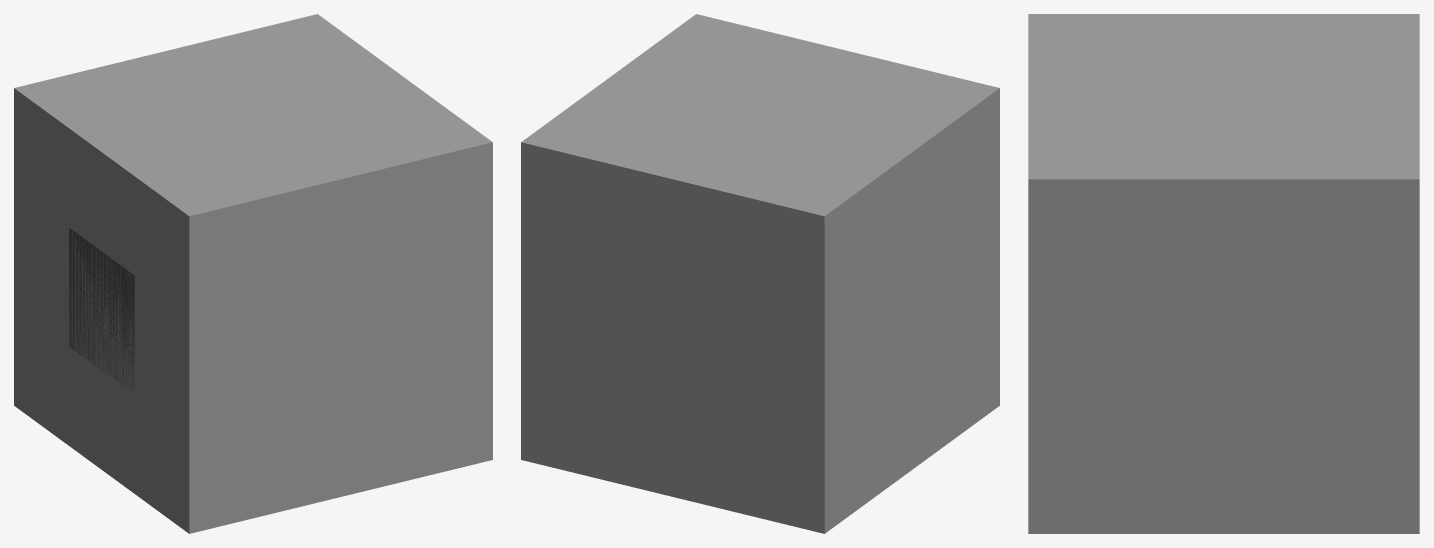
The model's file is ledswitch.obj.
3 views of the same model, side by side, from view 1: azimuth 30°, elevation 25°; view 2: azimuth 150°, elevation 25°; view 3: azimuth 270°, elevation 25° (orthographic). The views are drawn at different scales.
Parts seen in each view (by area): view 1: Minecraft_Block_Cube, main; view 2: Minecraft_Block_Cube; view 3: Minecraft_Block_Cube.
Part boxes in pixels (box(x1,y1,x2,y2)): Minecraft_Block_Cube: box(14, 14, 492, 533); main: box(69, 228, 134, 391); Minecraft_Block_Cube: box(521, 14, 999, 533); Minecraft_Block_Cube: box(1028, 14, 1419, 533).
Bounding box in the file's own units: 1 × 1 × 1.
